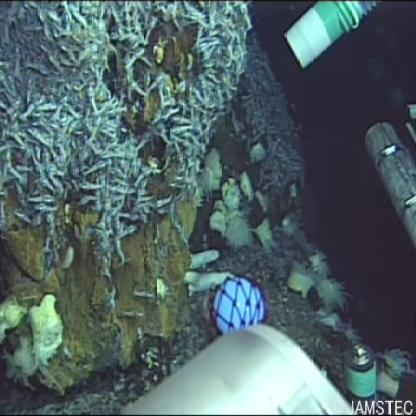Bio: (1, 2, 256, 231), (173, 246, 237, 294)
Rov: (136, 272, 357, 416), (283, 1, 375, 73)
